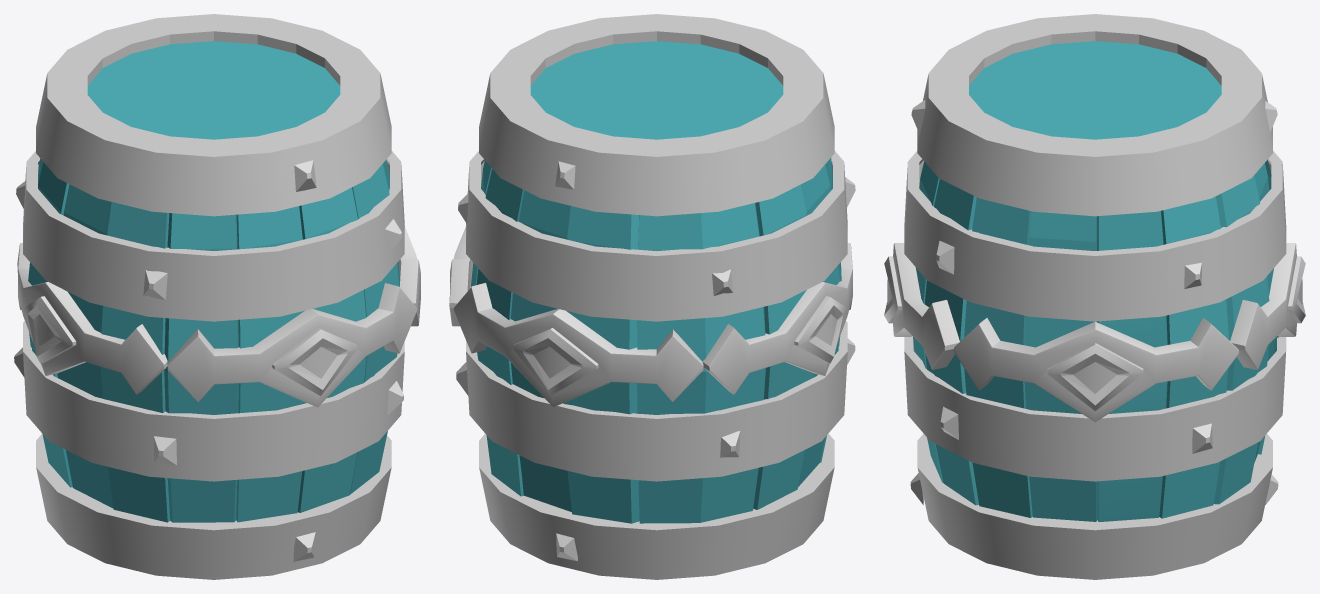
File: Barril01.fbx
The picture shows the model from 3 angles, left to right: view 1: azimuth 30°, elevation 25°; view 2: azimuth 150°, elevation 25°; view 3: azimuth 270°, elevation 25°; orthographic projection.
Parts seen in each view (by area): view 1: Barril, BarrilAroMidDown (×2), BarrilAroUp, BarrilAroMidUp, BarrilCristal01, BarrilCristal02, Box028, Box026, Box025, Box027; view 2: Barril, BarrilAroMidDown (×2), BarrilAroUp, BarrilAroMidUp, BarrilCristal01, BarrilCristal02, Box026, Box028; view 3: Barril, BarrilAroMidDown (×2), BarrilAroUp, BarrilAroMidUp, BarrilCristal02, BarrilCristal01, Box032, Box030.
Part boxes in pixels (x1,y1,x2,y2): Barril: (28,41,400,522); BarrilAroMidDown (×2): (23,321,404,579); BarrilAroUp: (36,14,391,216); BarrilAroMidUp: (23,151,404,321); BarrilCristal01: (167,283,416,407); BarrilCristal02: (17,226,420,394); Box028: (14,347,176,465); Box026: (16,181,167,299); Box025: (294,160,316,191); Box027: (293,532,315,561); Barril: (471,41,841,523); BarrilAroMidDown (×2): (466,321,847,579); BarrilAroUp: (479,14,834,216); BarrilAroMidUp: (466,151,847,321); BarrilCristal01: (454,283,703,407); BarrilCristal02: (449,227,852,394); Box026: (712,177,855,295); Box028: (720,338,855,457); Barril: (913,41,1278,521); BarrilAroMidDown (×2): (904,336,1286,579); BarrilAroUp: (917,14,1272,216); BarrilAroMidUp: (904,151,1286,321); BarrilCristal02: (954,317,1238,422); BarrilCristal01: (884,243,1305,369); Box032: (940,406,1212,453); Box030: (936,241,1201,288).
Bounding box in the file's own units: 43.97 × 48.66 × 43.97.
